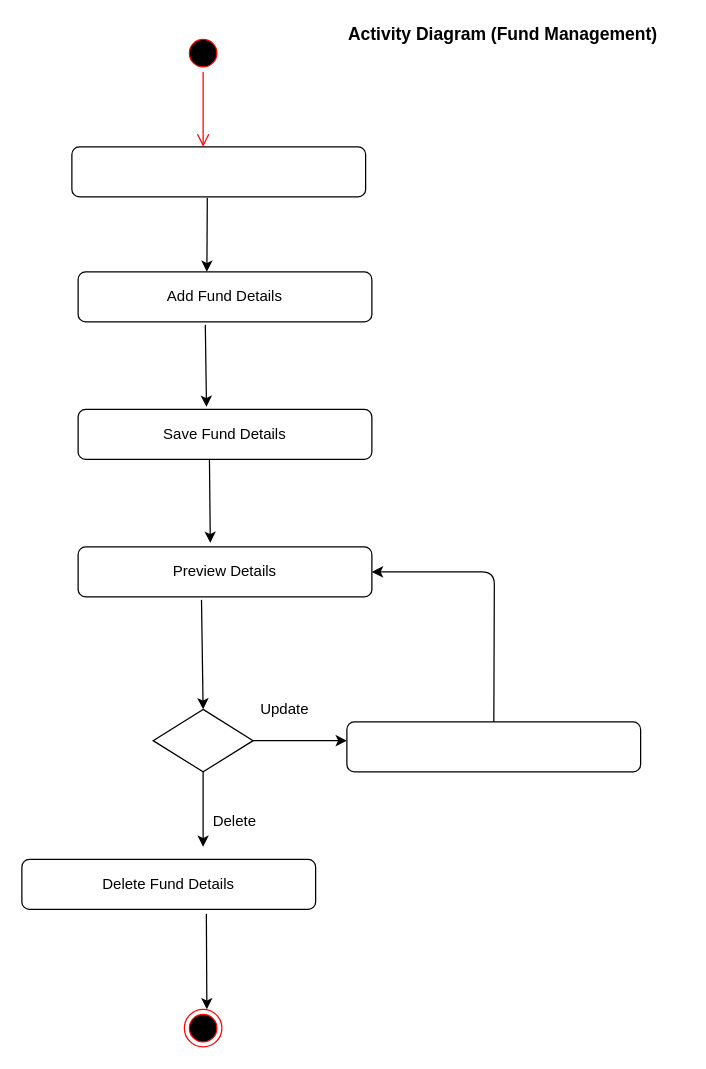
Some shapes in this 706 by 1069 pixel diagram are drawn without their labels. Each missing label, with the box of its shape:
Login to the System: (71, 146, 366, 197)
Update Fund Details: (346, 721, 641, 772)
